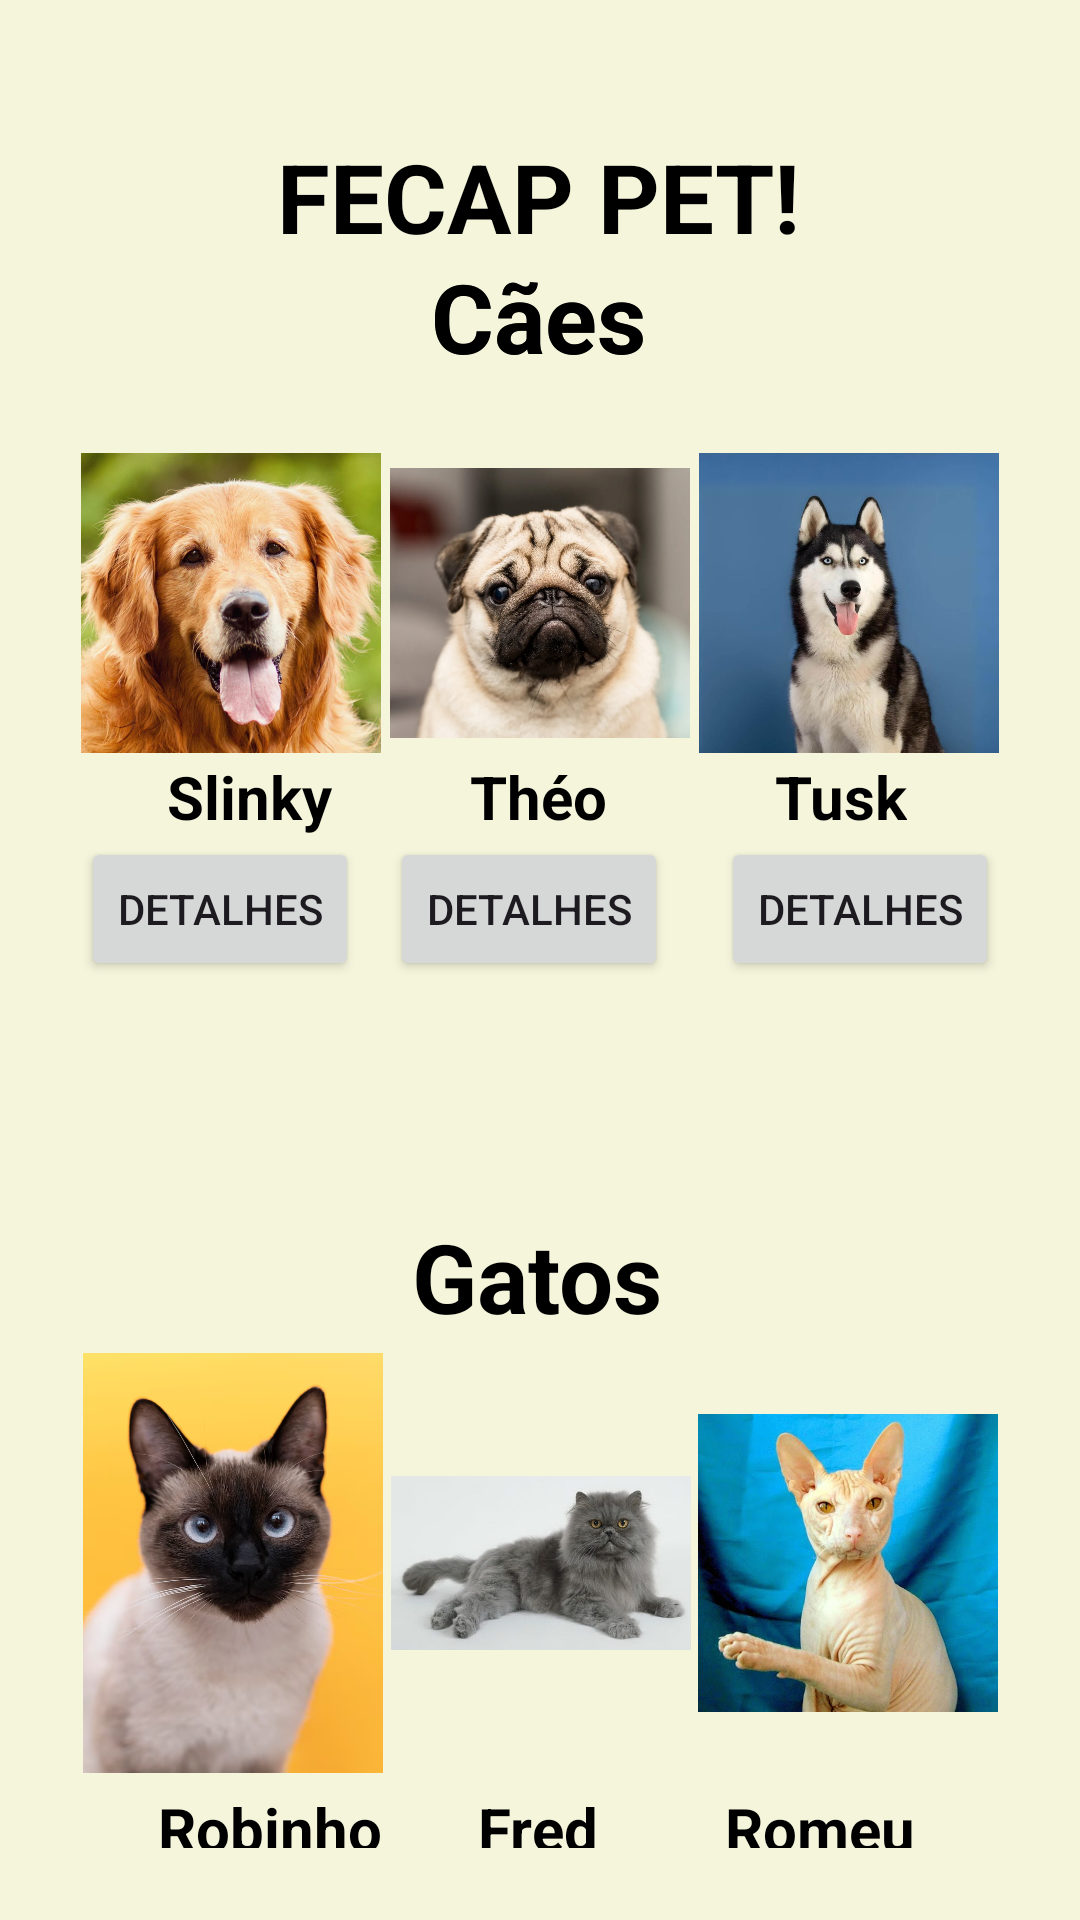

Named icons in this screenshot (1080*1920) and their centers, point (x, y):
golden: point (231, 619)
husky: point (849, 603)
persia: point (539, 1570)
pug: point (540, 626)
